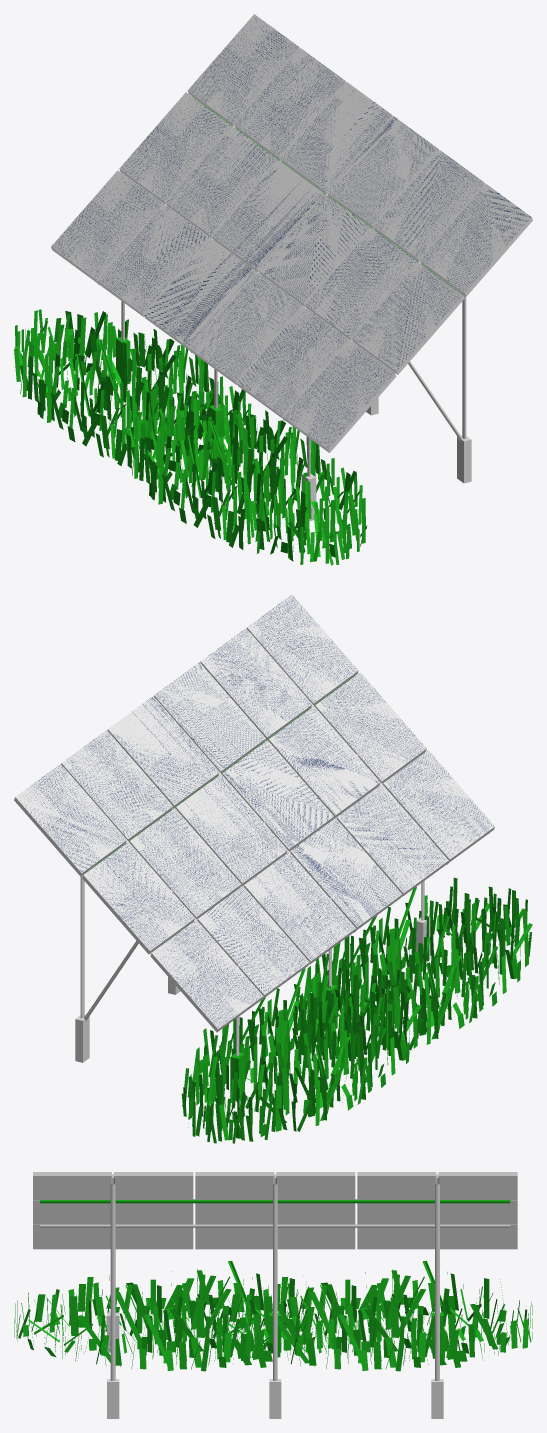
Rendered from groundSolarGrass2.glb.
The picture shows the model from 3 angles, top to bottom: view 1: azimuth 30°, elevation 25°; view 2: azimuth 150°, elevation 25°; view 3: azimuth 270°, elevation 25°; orthographic projection. The views are drawn at different scales.
Visible parts, largest first — view 1: Cube.013; view 2: Cube.013; view 3: Cube.013.
Boxes of the visible parts, x1,y1,x2,y2 form: Cube.013: (14, 14, 532, 565); Cube.013: (14, 594, 532, 1143); Cube.013: (14, 1172, 532, 1418).
Size of the model in its own units: 3.5 by 3.5 by 6.4.
Materials: 38 (18 with a texture image).
